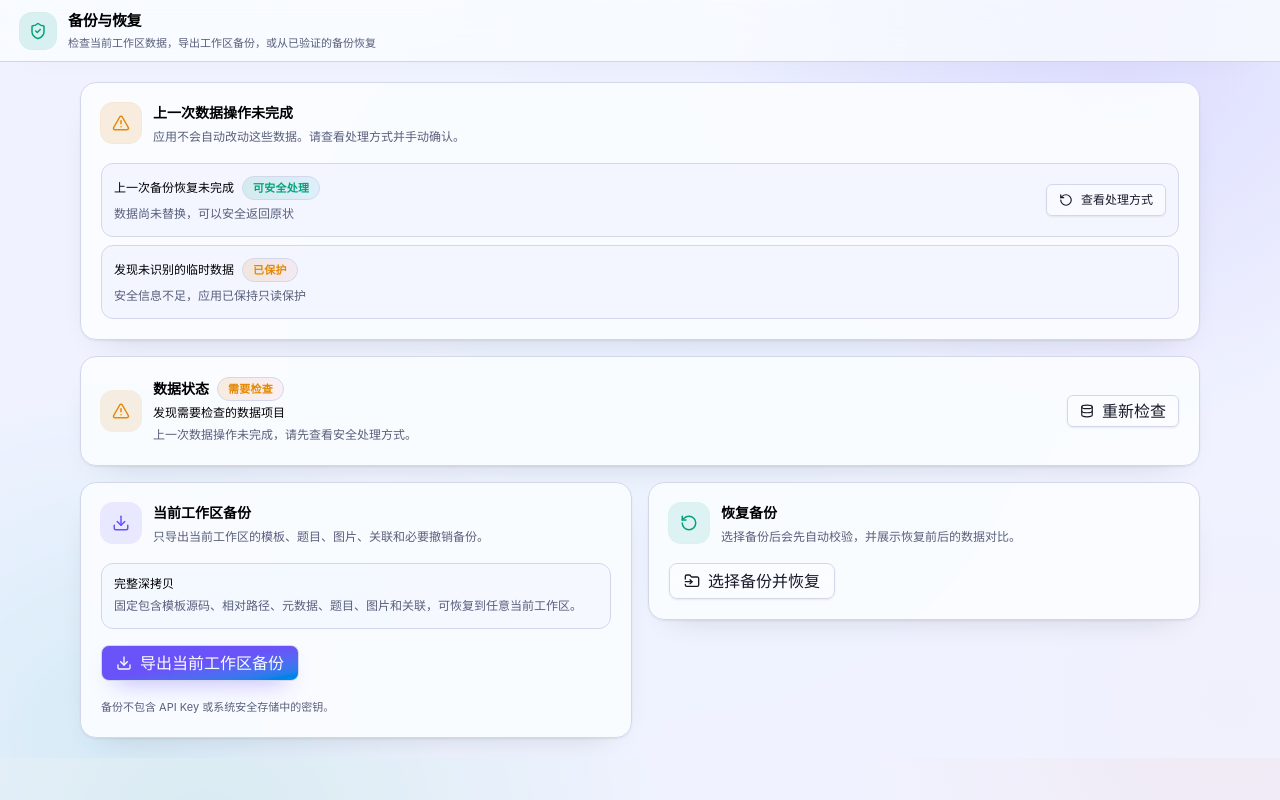
Scenario: DataManagementWorkspace conditional compatibility flows › keeps changed interrupted data protected without exposing confirmation
Click the button "查看处理方式". click: point(1106, 200)
box: x1=1046 y1=184 x2=1166 y2=216
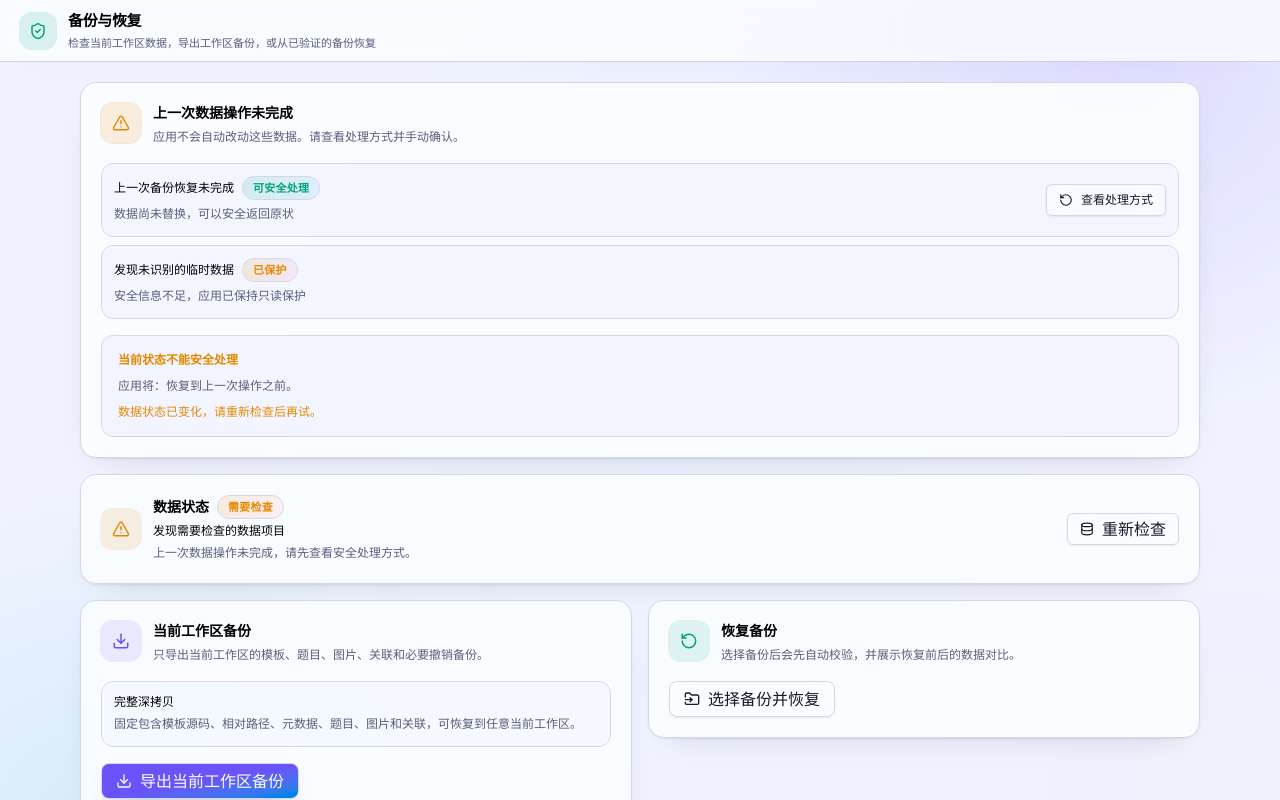
Now the text "当前状态不能安全处理" is shown, box x1=118 y1=352 x2=238 y2=367
Now the text "数据状态已变化，请重新检查后再试。" is shown, box x1=118 y1=404 x2=322 y2=419
